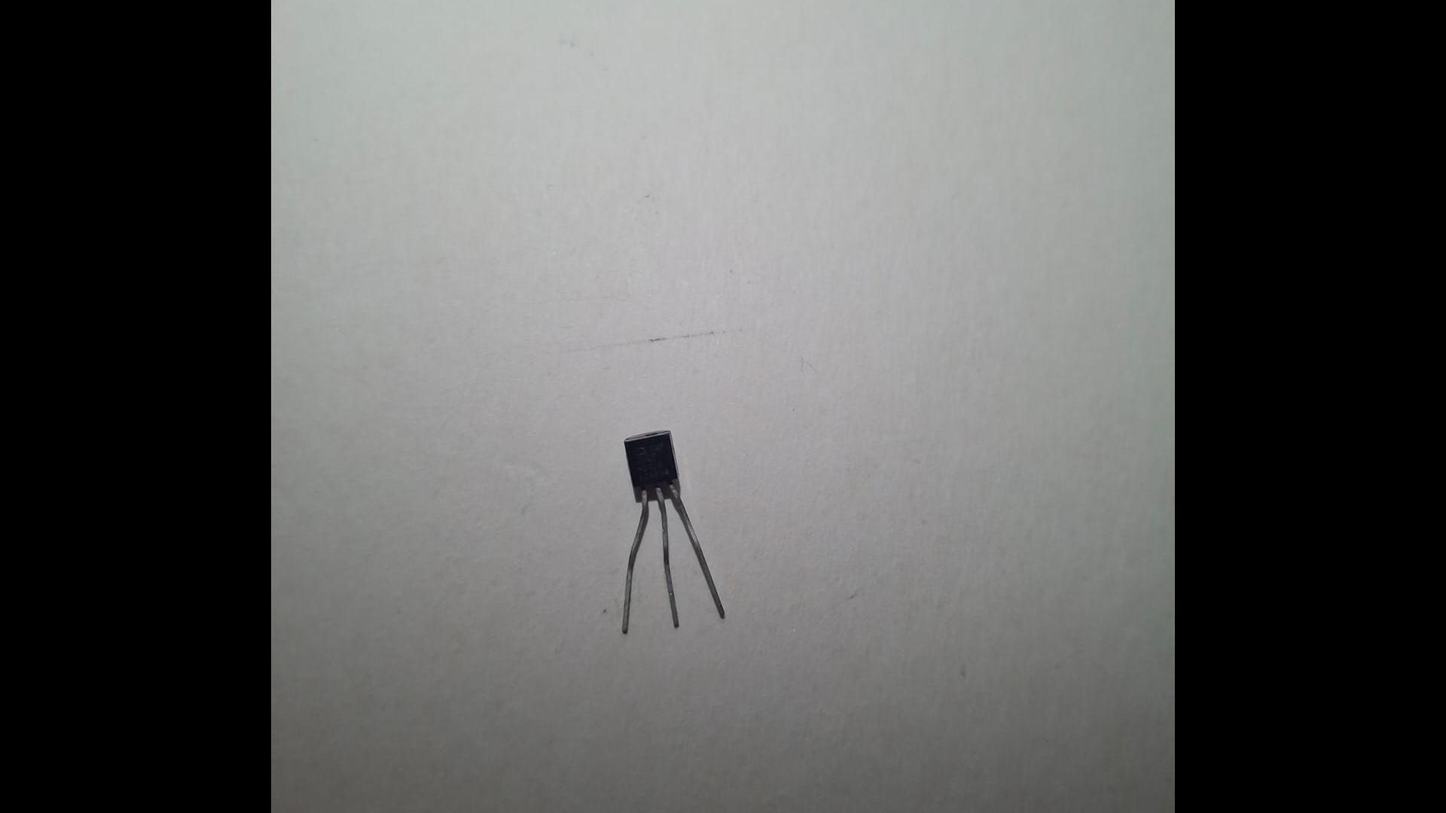Transistor: (585, 401, 721, 645)
